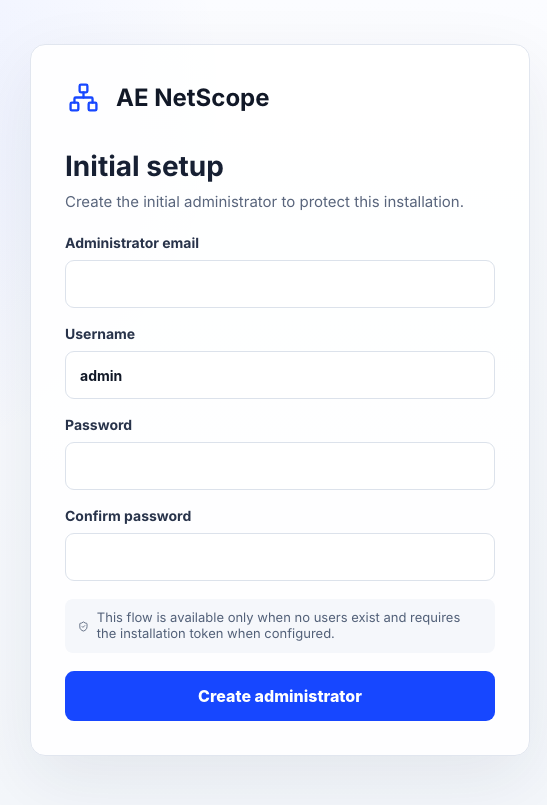
Test: SetupScreen › shows a conflict when setup was already completed
The image size is (547, 805).
Type "owner@example.com" into the field labelled "Administrator email". click: (280, 284)
box: [65,260,495,308]
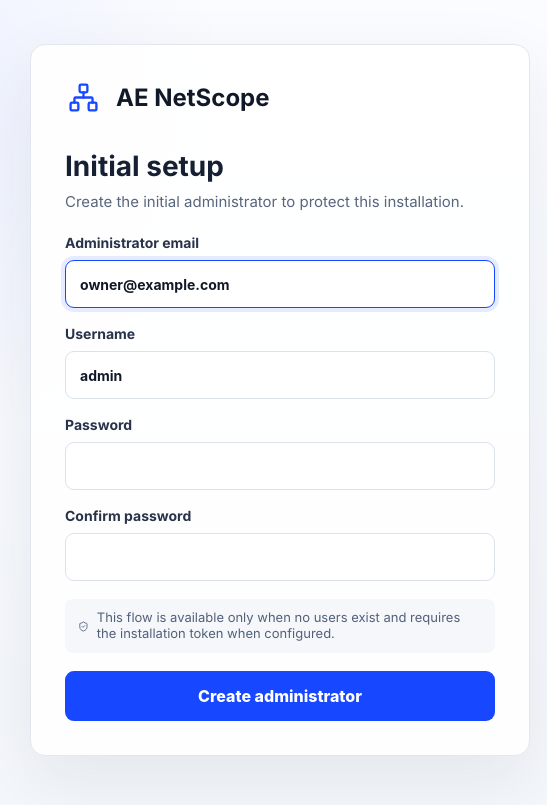
Type "first-secure-password" into the password field labelled "Password". click: (280, 466)
box: [65,442,495,490]
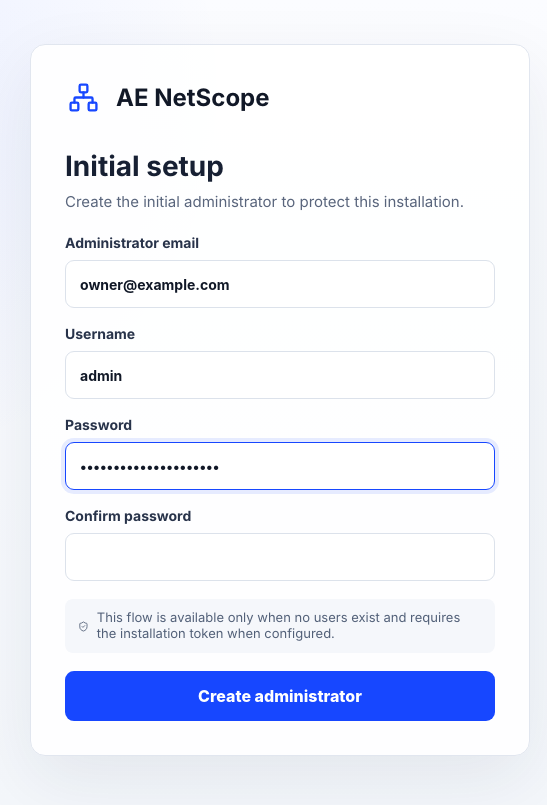
Type "first-secure-password" into the password field labelled "Confirm password". click: (280, 557)
box: [65,533,495,581]
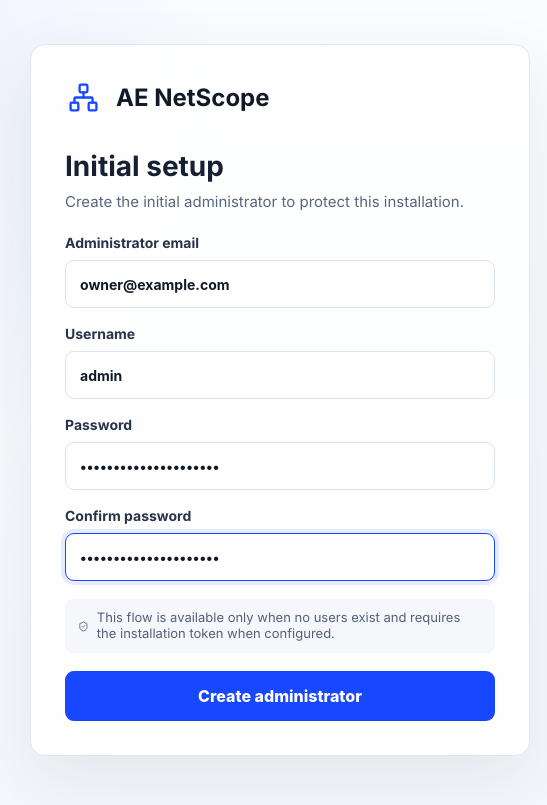
Click the button "Create administrator". click: (280, 696)
box: [65,671,495,721]
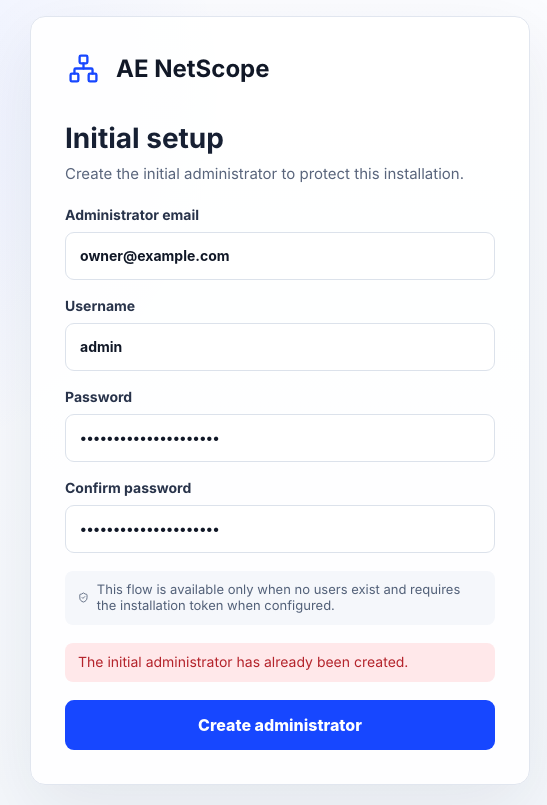
expect the text "The initial administrator has already been created." is shown: met, box [65,642,495,682]
